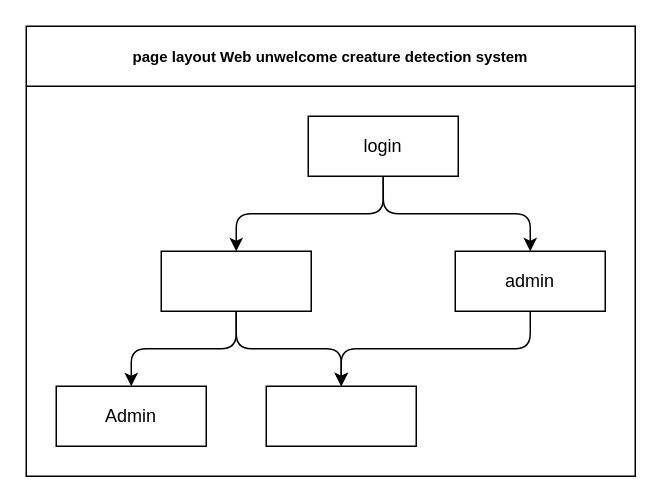
This 662x503 diagram has some shape labels left out. Each missing label, with the centre of its shape:
Device: the point at 340,415
super admin: the point at 235,280
